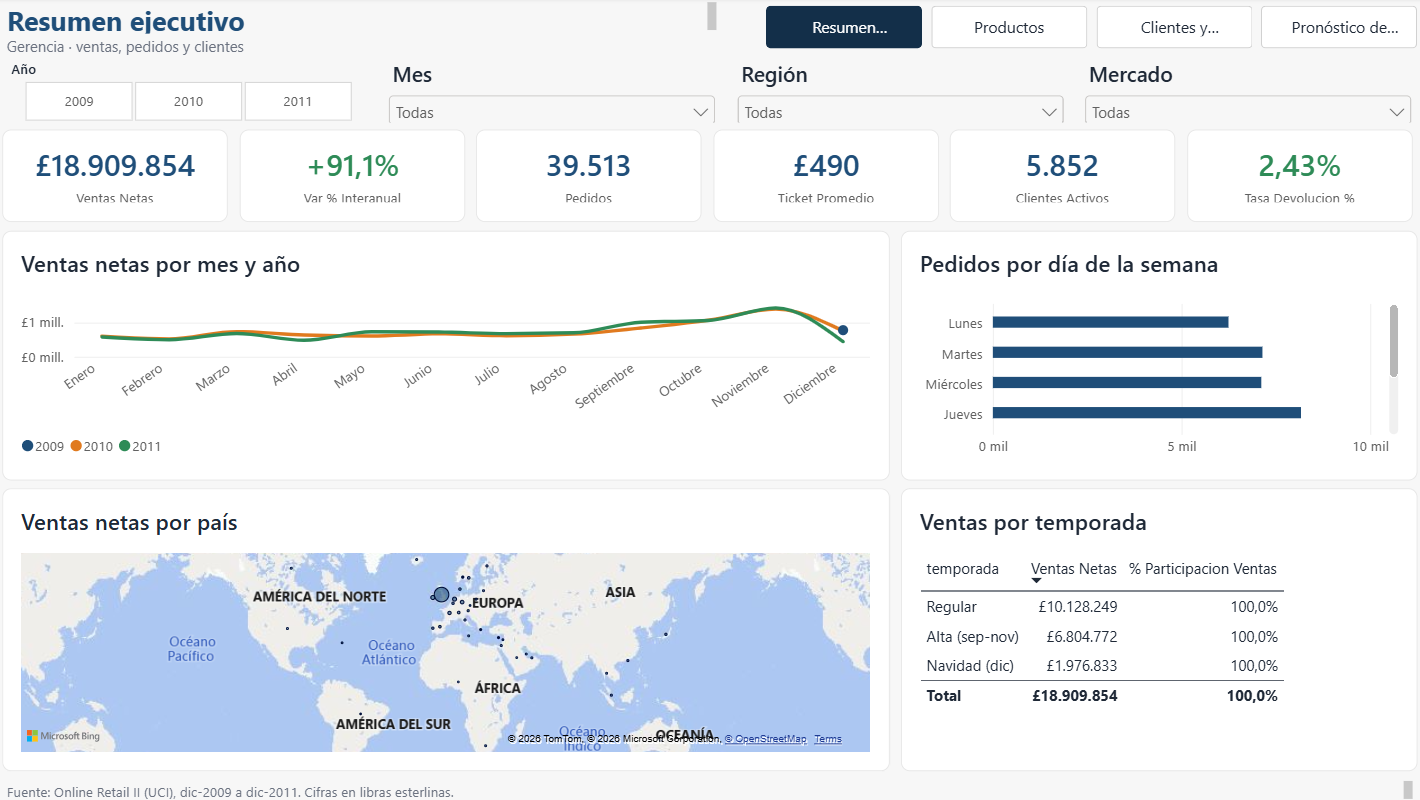

The page's visual inventory and layout, read from the dashboard file:
{"tool":"powerbi","page":{"name":"Resumen ejecutivo","canvas":[1280,720],"ordinal":0},"visuals":[{"type":"textbox","box":[10,2,640,32],"z":1000},{"type":"textbox","box":[10,32,640,22],"z":2000},{"type":"pageNavigator","box":[690,8,580,38],"z":3000},{"type":"textbox","box":[10,696,1260,20],"z":4000},{"type":"slicer","fields":{"Values":["dim_fecha.anio"]},"box":[10,56,330,56],"z":5000},{"type":"slicer","fields":{"Values":["dim_fecha.mes"]},"box":[350,56,300,56],"z":6000},{"type":"slicer","fields":{"Values":["dim_pais.region"]},"box":[660,56,300,56],"z":7000},{"type":"slicer","fields":{"Values":["dim_pais.mercado"]},"box":[970,56,300,56],"z":8000},{"type":"card","fields":{"Values":["_Medidas.Ventas Netas"]},"box":[10,118,201,82],"z":9000},{"type":"card","fields":{"Values":["_Medidas.Var % Interanual"]},"box":[221,118,201,82],"z":10000},{"type":"card","fields":{"Values":["_Medidas.Pedidos"]},"box":[432,118,201,82],"z":11000},{"type":"card","fields":{"Values":["_Medidas.Ticket Promedio"]},"box":[643,118,201,82],"z":12000},{"type":"card","fields":{"Values":["_Medidas.Clientes Activos"]},"box":[854,118,201,82],"z":13000},{"type":"card","fields":{"Values":["_Medidas.Tasa Devolucion %"]},"box":[1065,118,201,82],"z":14000},{"type":"lineChart","title":"Ventas netas por mes y año","fields":{"Category":["dim_fecha.mes"],"Series":["dim_fecha.anio"],"Y":["_Medidas.Ventas Netas"]},"box":[10,208,790,222],"z":15000},{"type":"clusteredBarChart","title":"Pedidos por día de la semana","fields":{"Category":["dim_fecha.dia_semana"],"Y":["_Medidas.Pedidos"]},"box":[810,208,460,222],"z":16000},{"type":"map","title":"Ventas netas por país","fields":{"Category":["dim_pais.pais"],"Size":["_Medidas.Ventas Netas"]},"box":[10,438,790,252],"z":17000},{"type":"tableEx","title":"Ventas por temporada","fields":{"Values":["dim_fecha.temporada","_Medidas.Ventas Netas","_Medidas.% Participacion Ventas"]},"box":[810,438,460,252],"z":18000}]}

Visuals, with their boxes in screenshot pixels (x1, y1, x2, y2), scaled from the page's 1280x720 canvas onto the 1420x800 screenshot:
textbox: bbox(11, 2, 721, 38)
textbox: bbox(11, 36, 721, 60)
pageNavigator: bbox(765, 9, 1409, 51)
textbox: bbox(11, 773, 1409, 796)
slicer - dim_fecha.anio: bbox(11, 62, 377, 124)
slicer - dim_fecha.mes: bbox(388, 62, 721, 124)
slicer - dim_pais.region: bbox(732, 62, 1065, 124)
slicer - dim_pais.mercado: bbox(1076, 62, 1409, 124)
card - _Medidas.Ventas Netas: bbox(11, 131, 234, 222)
card - _Medidas.Var % Interanual: bbox(245, 131, 468, 222)
card - _Medidas.Pedidos: bbox(479, 131, 702, 222)
card - _Medidas.Ticket Promedio: bbox(713, 131, 936, 222)
card - _Medidas.Clientes Activos: bbox(947, 131, 1170, 222)
card - _Medidas.Tasa Devolucion %: bbox(1181, 131, 1404, 222)
"Ventas netas por mes y año" lineChart: bbox(11, 231, 888, 478)
"Pedidos por día de la semana" clusteredBarChart: bbox(899, 231, 1409, 478)
"Ventas netas por país" map: bbox(11, 487, 888, 767)
"Ventas por temporada" tableEx: bbox(899, 487, 1409, 767)
